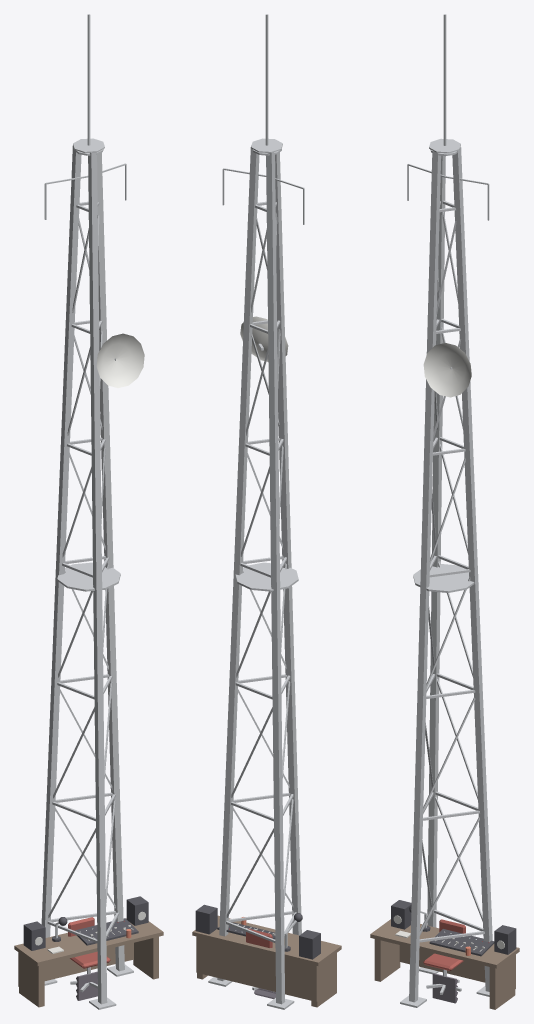
The model's file is radio_kit.glb.
3 renders of one model, left to right at view 1: azimuth 30°, elevation 25°; view 2: azimuth 150°, elevation 25°; view 3: azimuth 330°, elevation 25°, orthographic.
Visible parts, largest first — view 1: rd_mast_mesh, rd_desk_mesh, rd_chair_mesh, rd_foam_mesh; view 2: rd_mast_mesh, rd_desk_mesh; view 3: rd_mast_mesh, rd_desk_mesh, rd_chair_mesh, rd_foam_mesh.
Part boxes in pixels (x1,y1,x2,y2): rd_mast_mesh: (41, 14, 144, 1009); rd_desk_mesh: (14, 896, 163, 1007); rd_chair_mesh: (68, 917, 110, 992); rd_foam_mesh: (76, 971, 97, 1000); rd_mast_mesh: (208, 14, 304, 1009); rd_desk_mesh: (192, 904, 341, 1007); rd_mast_mesh: (400, 14, 492, 1007); rd_desk_mesh: (370, 900, 519, 1009); rd_chair_mesh: (423, 919, 465, 994); rd_foam_mesh: (432, 973, 457, 1003).
Bounding box in the file's own units: 2.2 × 16.4 × 1.46.
